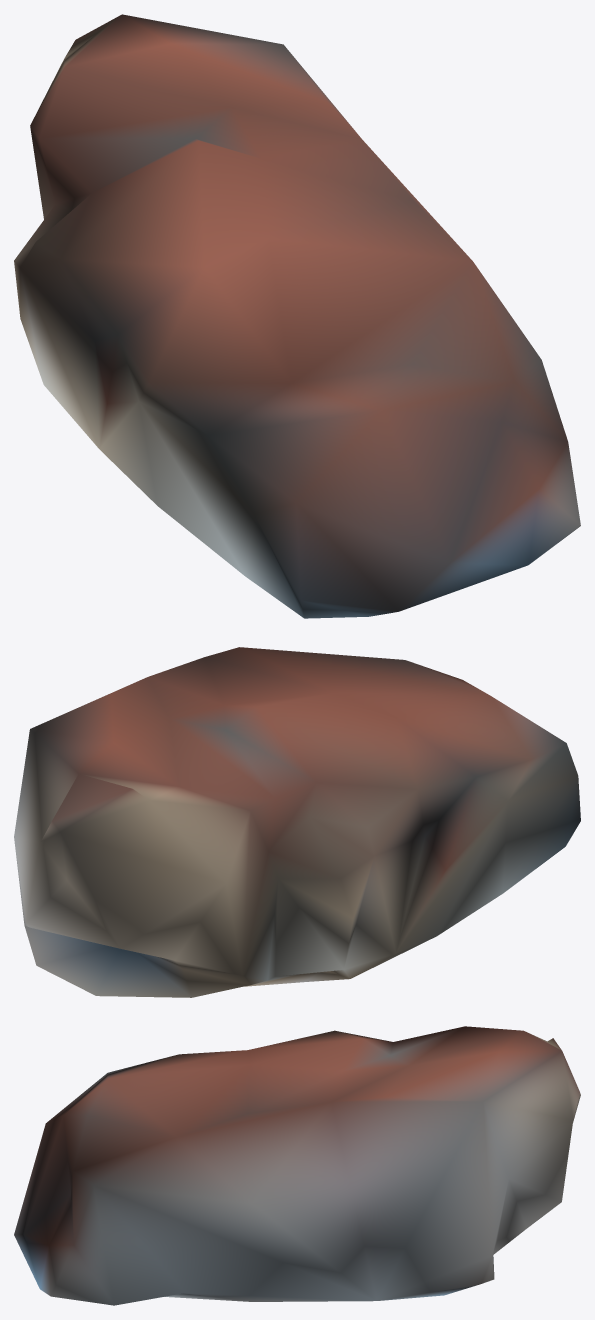
The model's file is rock_07.lod2.glb.
3 views of the same model, one above another, from view 1: azimuth 30°, elevation 25°; view 2: azimuth 150°, elevation 25°; view 3: azimuth 270°, elevation 25° (orthographic). The views are drawn at different scales.
Parts seen in each view (by area): view 1: rock_07; view 2: rock_07; view 3: rock_07.
Boxes of the visible parts, bbox=[...] form: rock_07: bbox=[14, 14, 580, 618]; rock_07: bbox=[14, 647, 580, 997]; rock_07: bbox=[14, 1026, 580, 1305].
Size of the model in its own units: 0.1667 by 0.1394 by 0.3193.
